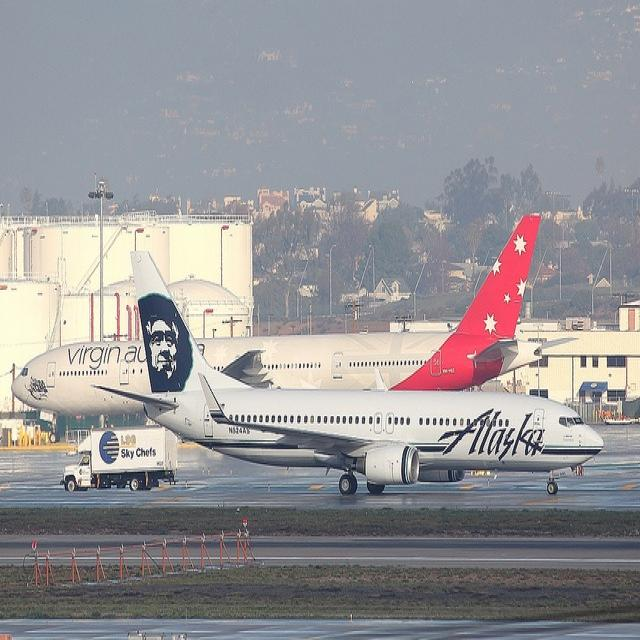truck: (58, 424, 177, 489)
